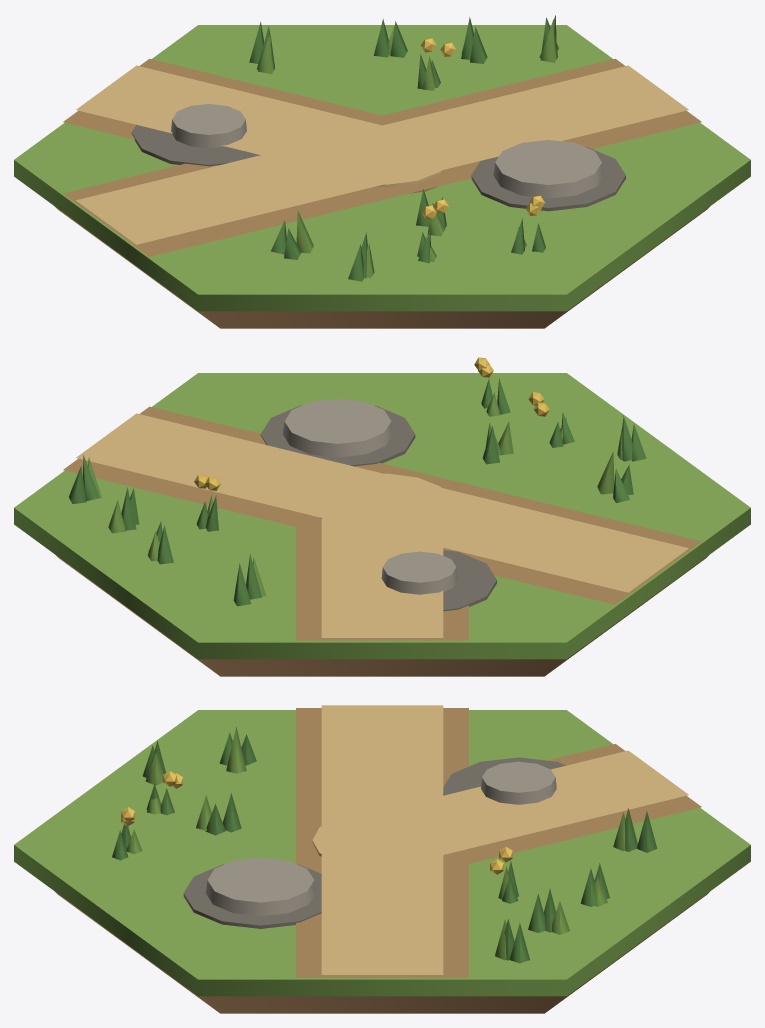
Rendered from tile_tJunction.glb.
3 renders of one model, top to bottom at view 1: azimuth 30°, elevation 25°; view 2: azimuth 150°, elevation 25°; view 3: azimuth 270°, elevation 25°, orthographic.
Visible parts, largest first — view 1: turf, road, tile_base, tower_slot_2_plate, road_hub, tower_slot_2_apron, tower_slot_1_plate, tower_slot_1_apron; view 2: turf, road, tile_base, tower_slot_2_plate, road_hub, tower_slot_1_plate, tower_slot_2_apron, tower_slot_1_apron; view 3: turf, road, tile_base, tower_slot_2_plate, tower_slot_2_apron, tower_slot_1_plate, road_hub, tower_slot_1_apron, road_hub_verge, grass_tuft.
Part boxes in pixels (x1,y1,x2,y2): turf: (14,25,750,311); road: (63,58,701,256); tile_base: (55,207,709,328); tower_slot_2_plate: (493,140,603,198); road_hub: (313,125,449,187); tower_slot_2_apron: (471,146,625,211); tower_slot_1_plate: (171,104,246,148); tower_slot_1_apron: (131,125,260,166); turf: (14,373,750,659); road: (63,406,701,640); tile_base: (56,555,708,676); tower_slot_2_plate: (282,399,392,457); road_hub: (316,473,451,519); tower_slot_1_plate: (381,551,457,594); tower_slot_2_apron: (260,405,415,466); tower_slot_1_apron: (443,550,496,611); turf: (14,710,750,996); road: (296,705,701,977); tile_base: (55,892,709,1013); tower_slot_2_plate: (205,857,315,916); tower_slot_2_apron: (183,864,321,928); tower_slot_1_plate: (481,761,556,804); road_hub: (312,815,451,863); tower_slot_1_apron: (443,757,565,795); road_hub_verge: (296,818,460,866); grass_tuft: (226,726,246,773).
Bounding box in the file's own units: 1.73 × 0.2986 × 2.
